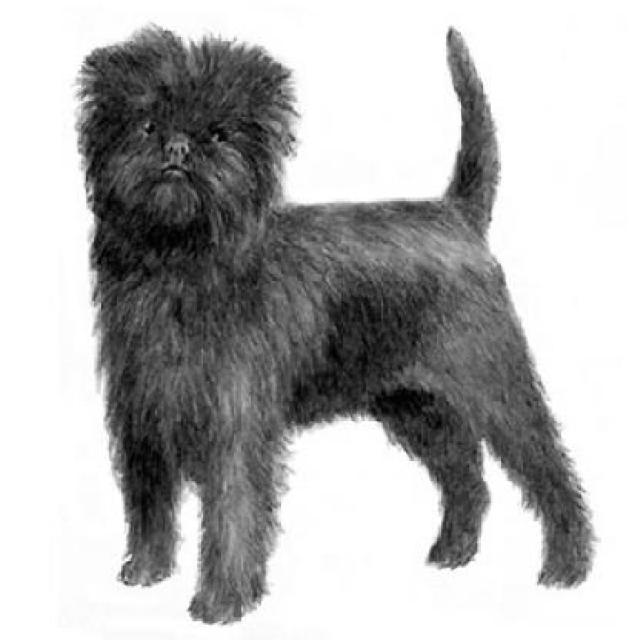animals: (51, 10, 612, 608)
